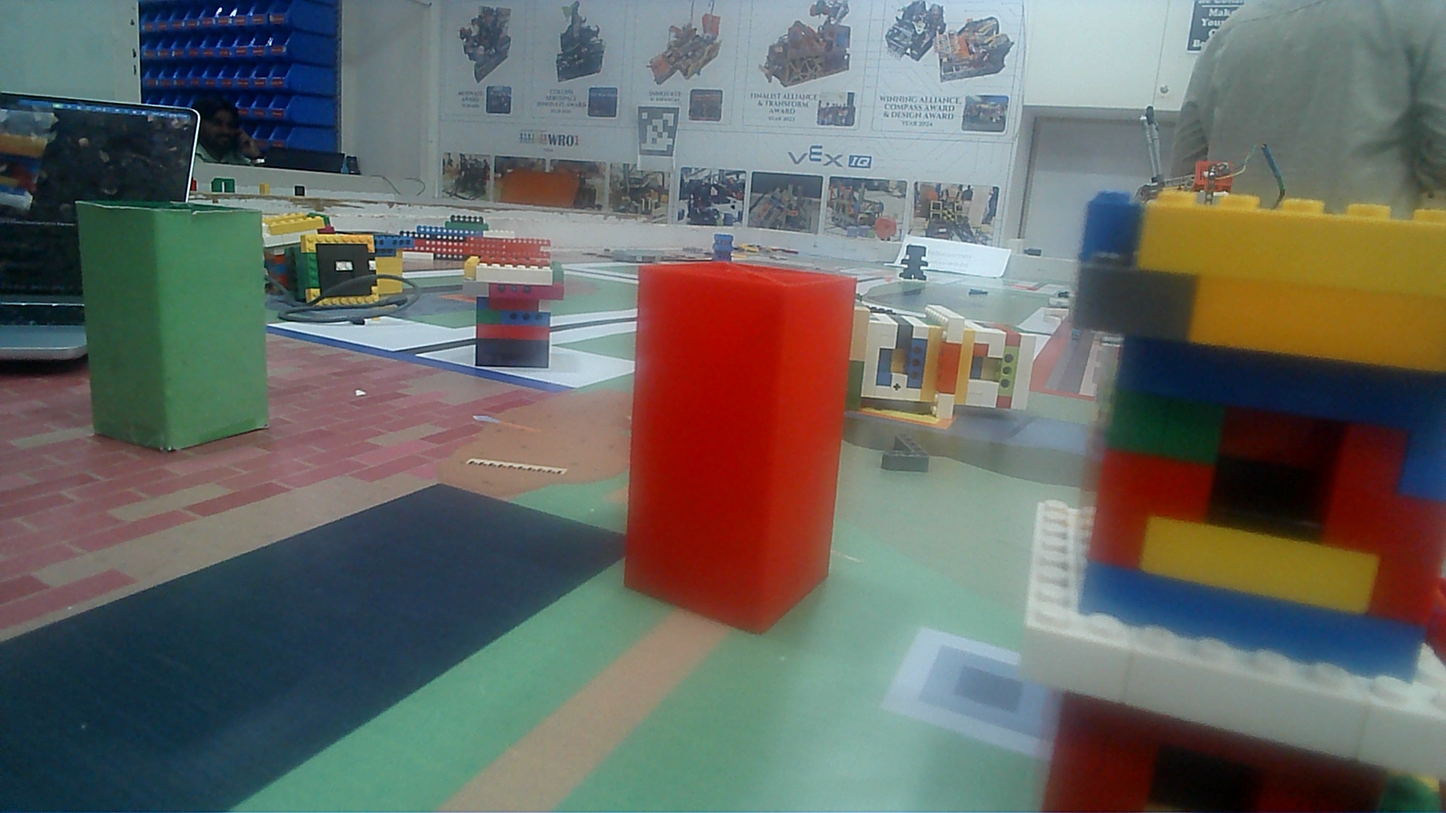red: (624, 266, 860, 608)
